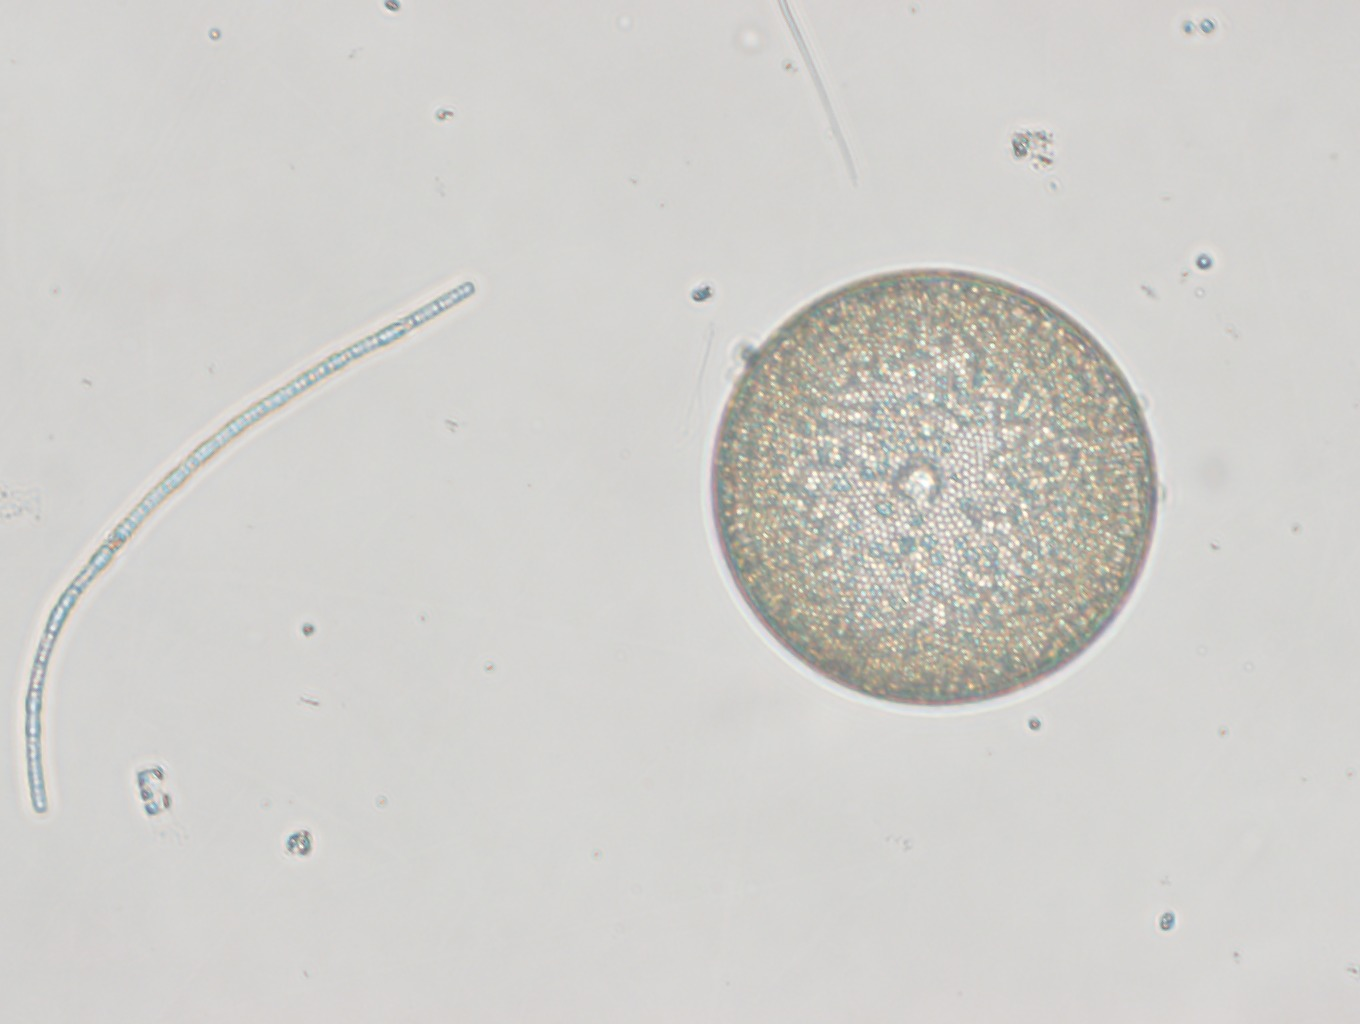coscinodiscus: (703, 265, 1160, 709)
